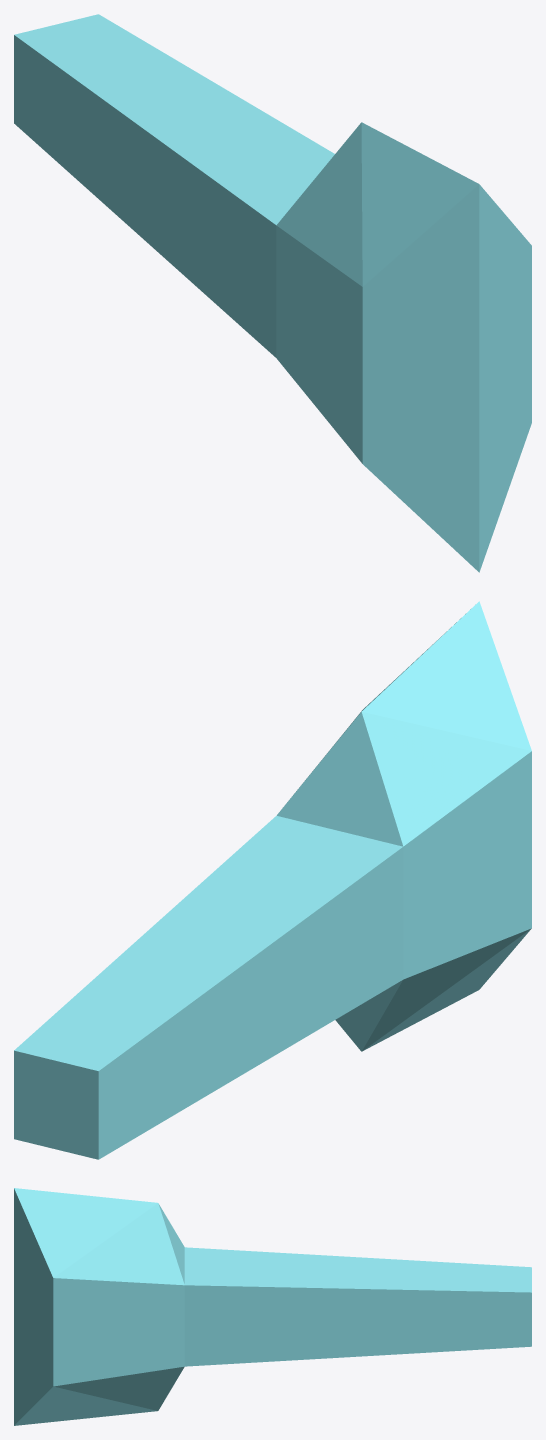
File: Package.obj
The picture shows the model from 3 angles, top to bottom: view 1: azimuth 30°, elevation 25°; view 2: azimuth 150°, elevation 25°; view 3: azimuth 270°, elevation 25°; orthographic projection. The views are drawn at different scales.
Visible parts, largest first — view 1: Cube; view 2: Cube; view 3: Cube.
Part boxes in pixels (left/top/right/bottom): Cube: left=14, top=14, right=531, bottom=572; Cube: left=14, top=601, right=531, bottom=1159; Cube: left=14, top=1188, right=531, bottom=1425.
Bounding box in the file's own units: 0.4 × 0.8776 × 1.73.
1 material, 1 textured.
